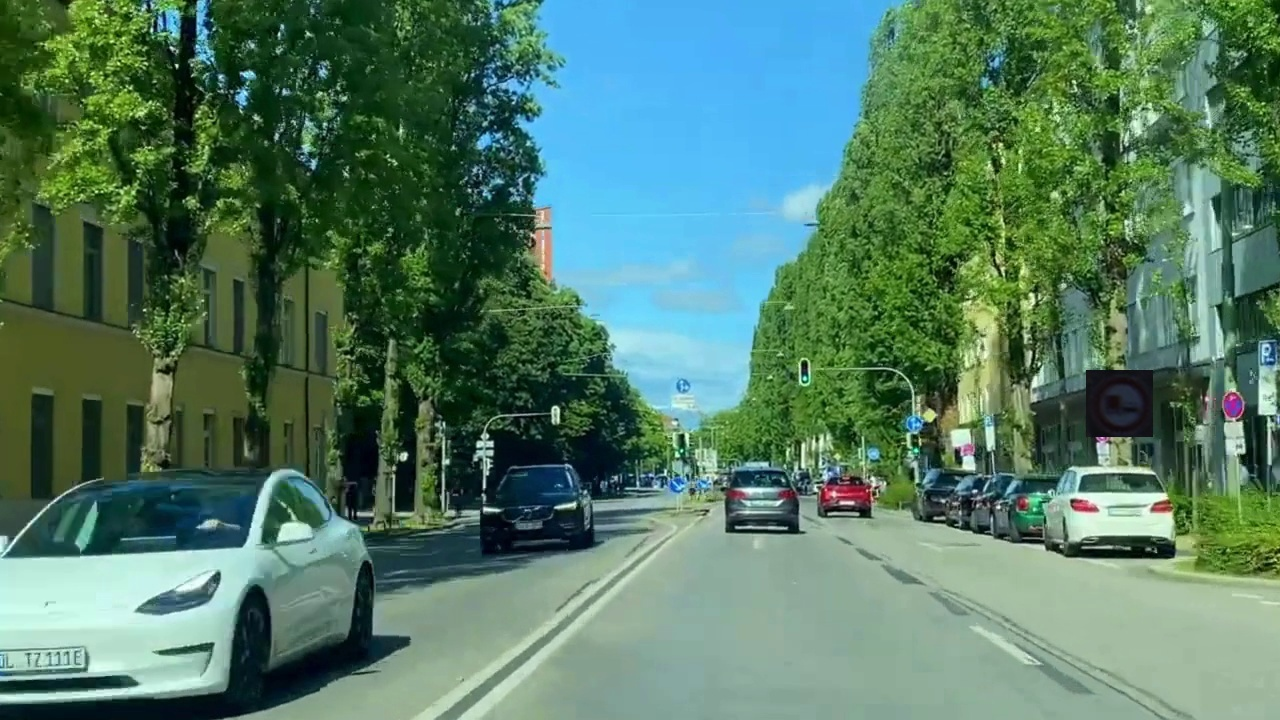No pass >3.5t: (1086, 370, 1153, 437)
